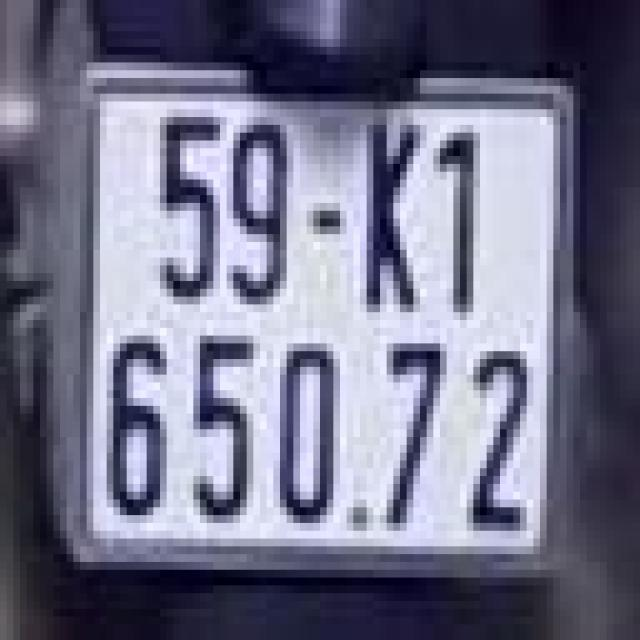0: (267, 324, 340, 527)
1: (427, 102, 493, 312)
2: (460, 340, 540, 542)
5: (146, 90, 226, 308), (177, 324, 250, 527)
6: (94, 320, 174, 539)
7: (367, 320, 453, 531)
9: (227, 109, 300, 320)
K: (343, 105, 430, 316)
